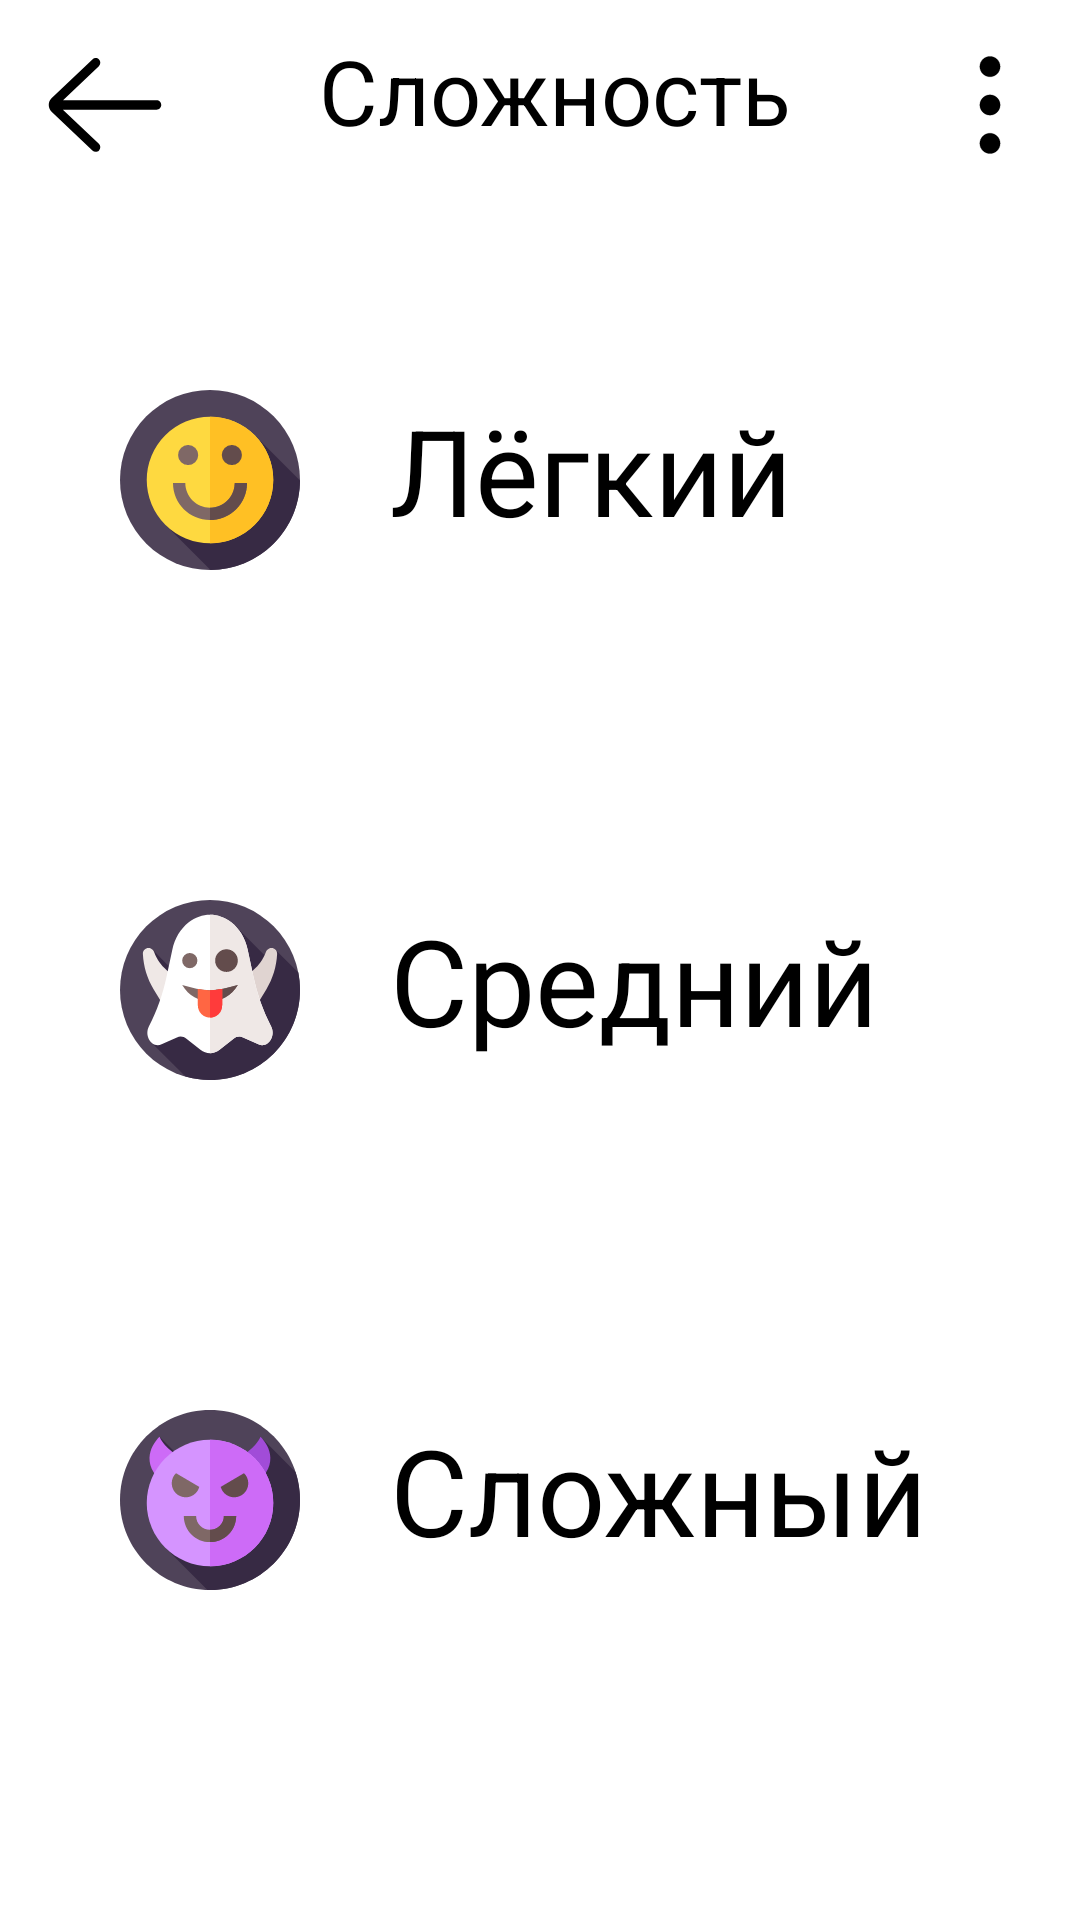

Screen size 1080*1920. Icon name, then its box in pixels as region(x1, y1, x2, y2):
easy level: region(120, 390, 300, 570)
hard level: region(120, 1410, 300, 1590)
middle level: region(120, 900, 300, 1080)
